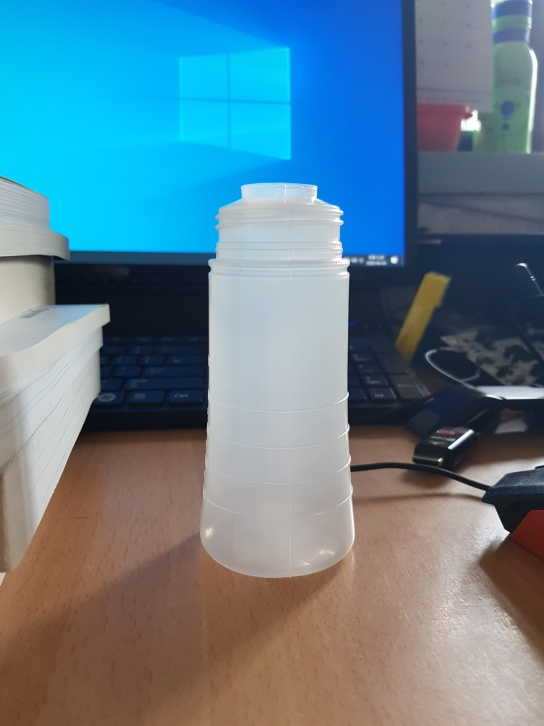Plastic: (197, 181, 355, 579)
